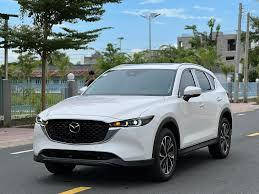mazda: (66, 119, 83, 136)
